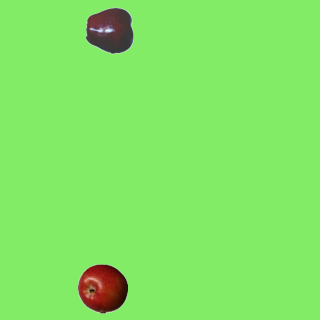Apple Braeburn: (77, 263, 127, 313)
Apple Red Delicious: (85, 5, 135, 55)
